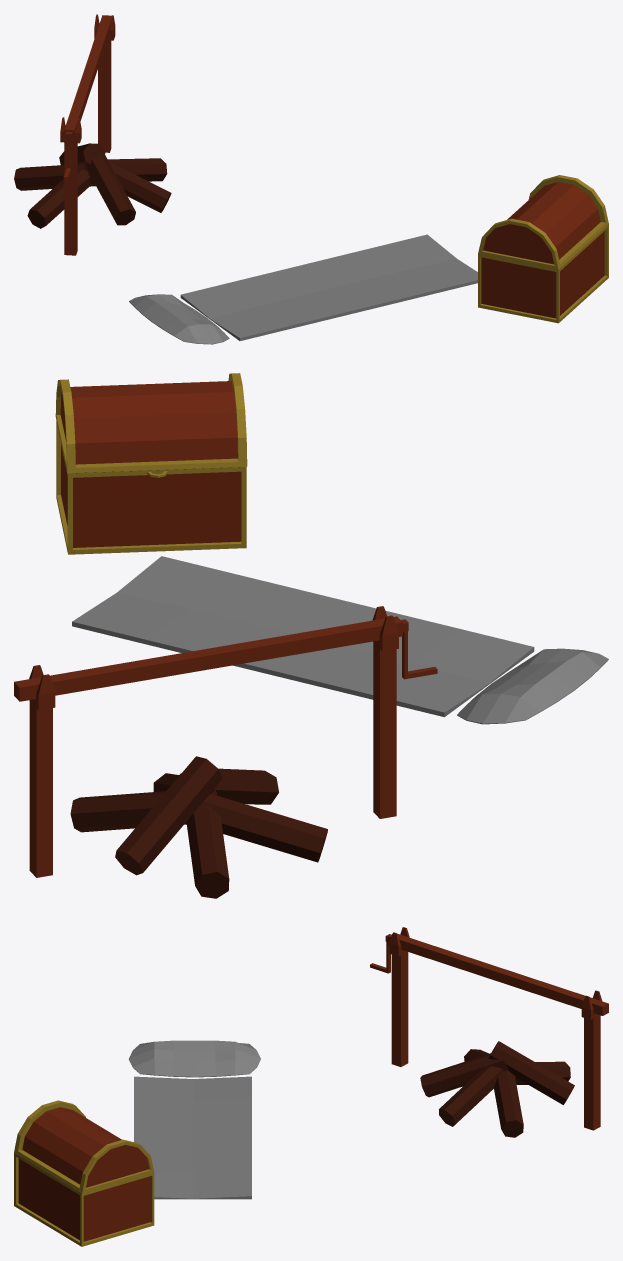
File: MainBuilding.fbx
The picture shows the model from 3 angles, top to bottom: view 1: azimuth 30°, elevation 25°; view 2: azimuth 150°, elevation 25°; view 3: azimuth 270°, elevation 25°; orthographic projection. The views are drawn at different scales.
Visible parts, largest first — view 1: Plane.002, Cylinder.006, Cube.002, Cube.001, Cube, Plane, Cylinder.004, Plane.001, Cylinder.003, Cylinder.005, Cylinder.001, Cylinder (+1 smaller); view 2: Plane.002, Cylinder.006, Cube.002, Cube, Cube.001, Plane, Plane.001, Cylinder.002, Cylinder.003, Cylinder.001, Cylinder, Cylinder.004; view 3: Plane.002, Cylinder.006, Cube.002, Cube.001, Cube, Plane, Plane.001, Cylinder.002, Cylinder.004, Cylinder.005, Cylinder, Cylinder.001.
Part boxes in pixels (bbox=[...]): Plane.002: bbox=[180, 234, 477, 340]; Cylinder.006: bbox=[478, 175, 608, 269]; Cube.002: bbox=[478, 224, 608, 323]; Cube.001: bbox=[129, 294, 229, 344]; Cube: bbox=[63, 15, 111, 180]; Plane: bbox=[60, 117, 81, 255]; Cylinder.004: bbox=[84, 155, 135, 225]; Plane.001: bbox=[94, 14, 115, 152]; Cylinder.003: bbox=[27, 163, 91, 228]; Cylinder.005: bbox=[83, 161, 171, 212]; Cylinder.001: bbox=[14, 164, 95, 190]; Cylinder: bbox=[108, 158, 167, 181]; Plane.002: bbox=[72, 556, 534, 717]; Cylinder.006: bbox=[55, 373, 247, 473]; Cube.002: bbox=[56, 421, 246, 554]; Cube: bbox=[14, 616, 437, 701]; Cube.001: bbox=[457, 648, 608, 724]; Plane: bbox=[372, 606, 398, 818]; Plane.001: bbox=[29, 665, 55, 877]; Cylinder.002: bbox=[115, 756, 222, 875]; Cylinder.003: bbox=[201, 795, 327, 862]; Cylinder.001: bbox=[186, 803, 229, 898]; Cylinder: bbox=[70, 791, 186, 832]; Cylinder.004: bbox=[179, 768, 278, 804]; Plane.002: bbox=[134, 1076, 251, 1199]; Cylinder.006: bbox=[14, 1100, 154, 1193]; Cube.002: bbox=[14, 1152, 154, 1246]; Cube.001: bbox=[129, 1040, 260, 1077]; Cube: bbox=[370, 934, 608, 1015]; Plane: bbox=[389, 927, 409, 1066]; Plane.001: bbox=[581, 990, 602, 1130]; Cylinder.002: bbox=[488, 1041, 574, 1104]; Cylinder.004: bbox=[420, 1053, 508, 1097]; Cylinder.005: bbox=[439, 1066, 504, 1126]; Cylinder: bbox=[494, 1070, 523, 1137]; Cylinder.001: bbox=[515, 1061, 570, 1084].
Bounding box in the file's own units: 389 × 130 × 504.
